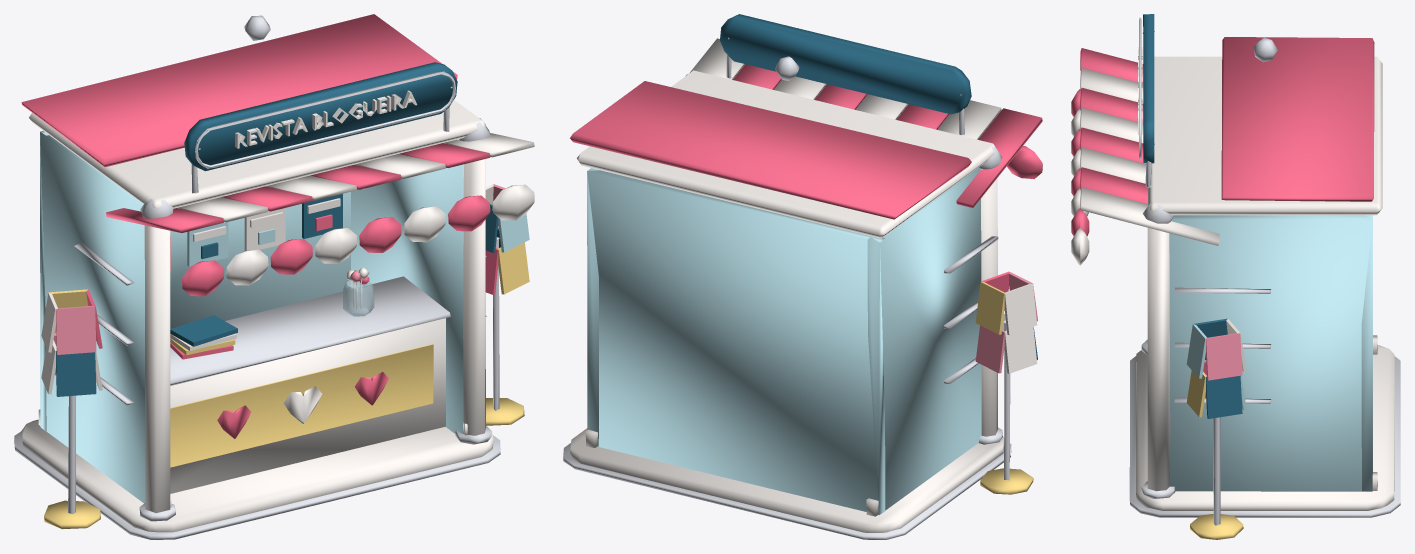
The model's file is lite_magazine_kiosk.glb.
3 renders of one model, left to right at view 1: azimuth 30°, elevation 25°; view 2: azimuth 150°, elevation 25°; view 3: azimuth 270°, elevation 25°, orthographic. The views are drawn at different scales.
Visible parts, largest first — view 1: magazine_kiosk; view 2: magazine_kiosk; view 3: magazine_kiosk.
Part boxes in pixels (box(x1,y1,x2,y2)): magazine_kiosk: box(14, 14, 534, 539); magazine_kiosk: box(563, 14, 1042, 539); magazine_kiosk: box(1071, 14, 1400, 539).
Bounding box in the file's own units: 4.2 × 3.6 × 2.72.
